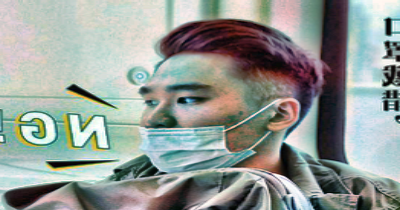mask_weared_incorrect: (137, 81, 256, 173)
